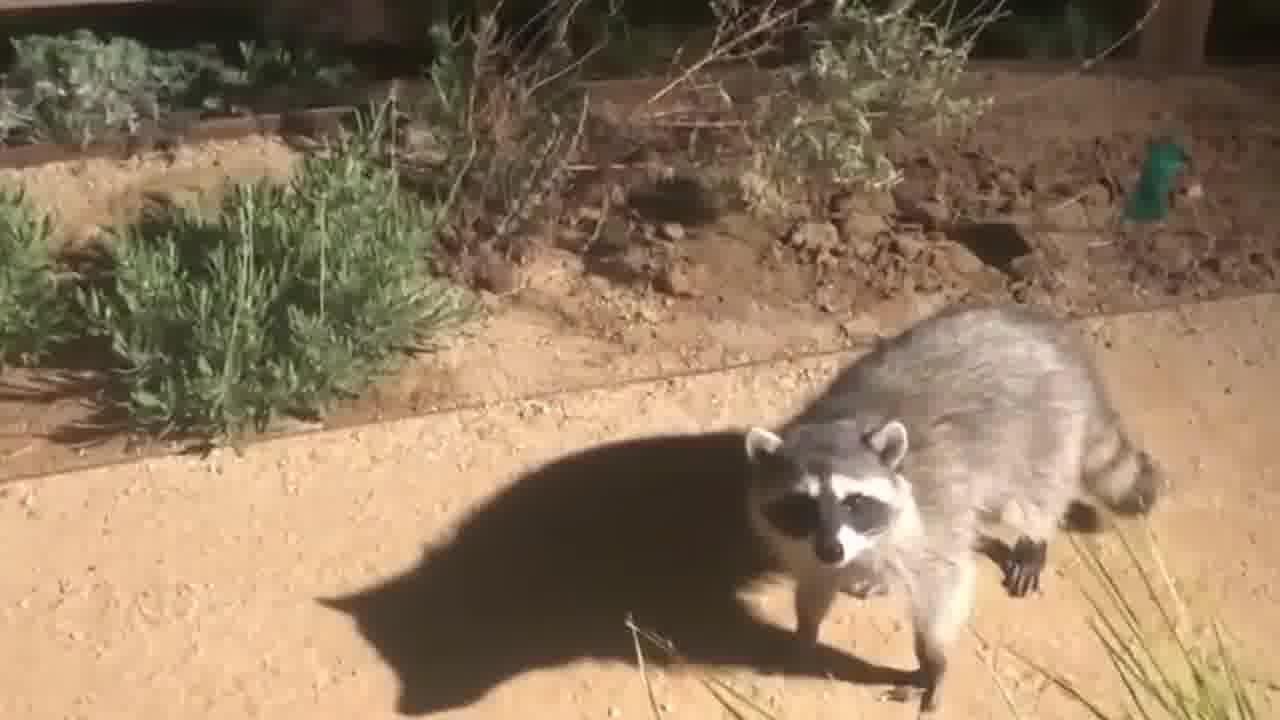raccoon: (688, 297, 1172, 710)
